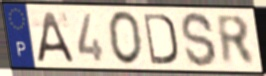4: (75, 12, 106, 64)
A: (35, 10, 77, 64)
D: (141, 11, 179, 66)
O: (106, 10, 145, 67)
R: (213, 13, 258, 68)
S: (179, 10, 219, 69)
